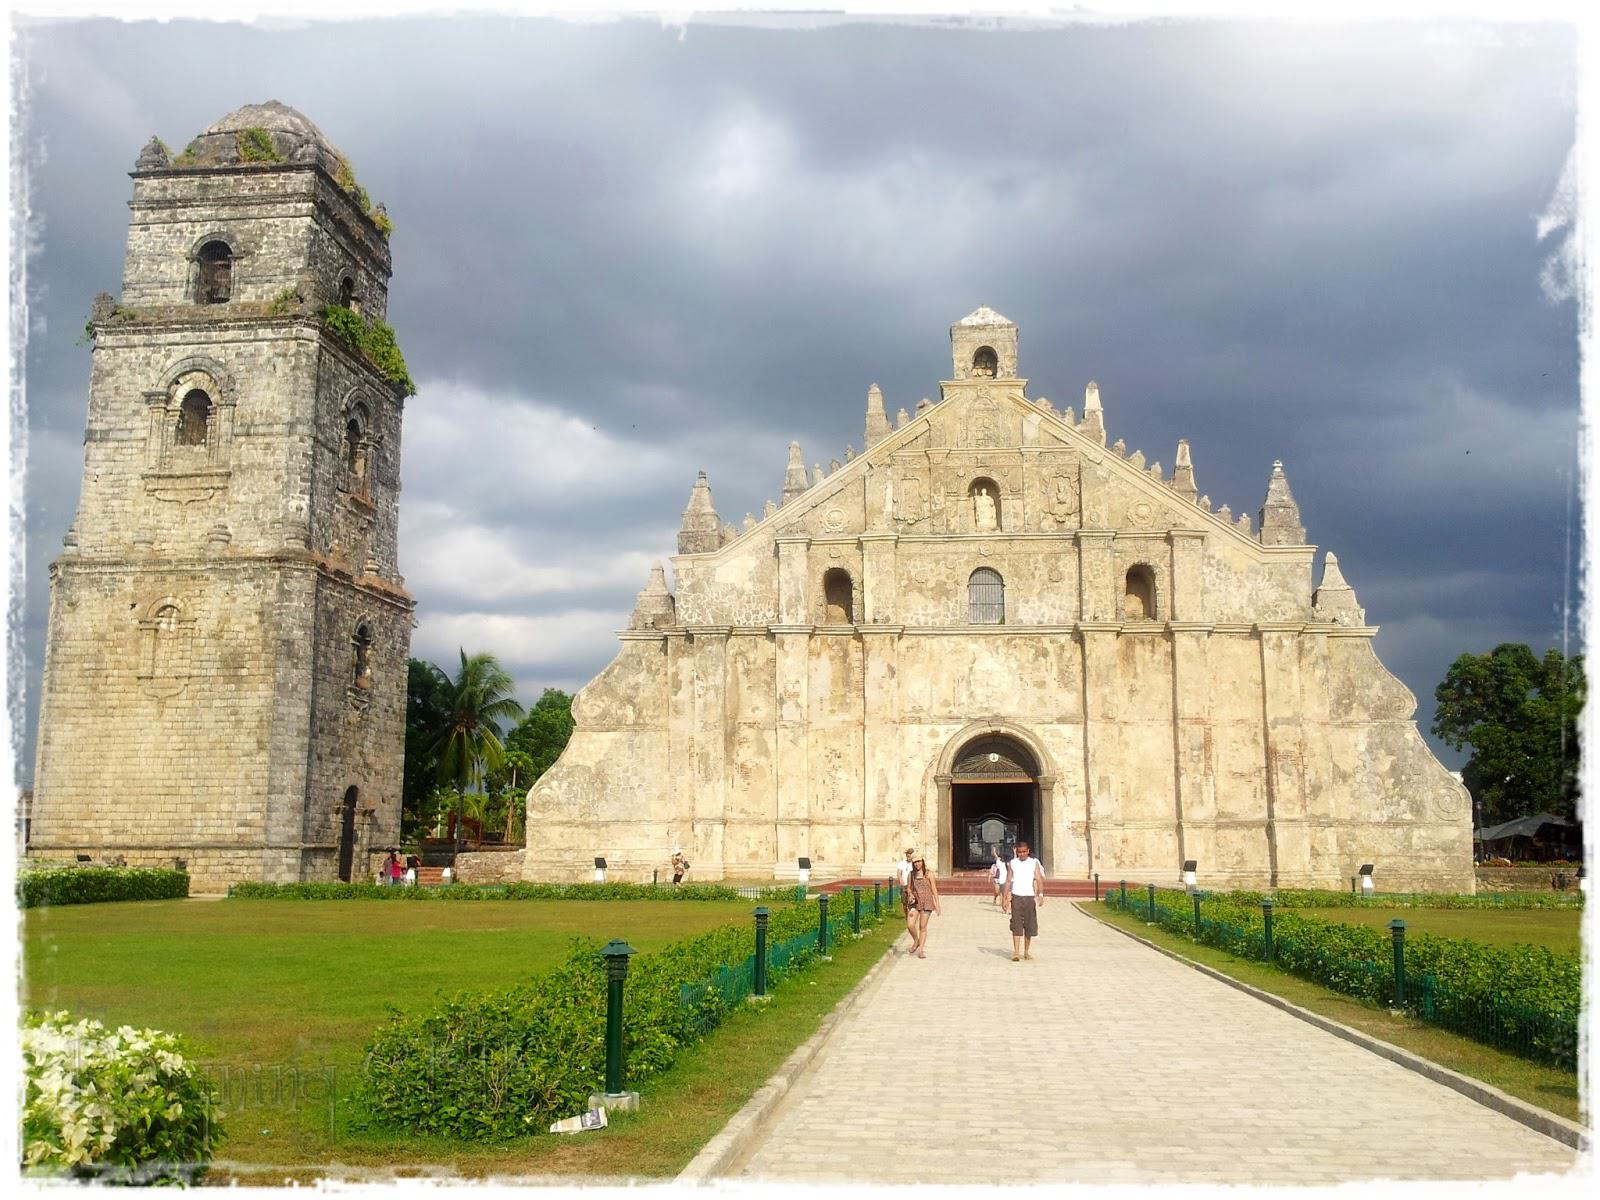Environmental Damage: (311, 308, 426, 405), (326, 158, 403, 234), (81, 296, 157, 342), (232, 125, 285, 170)
Paoay Church: (40, 83, 1482, 905)
